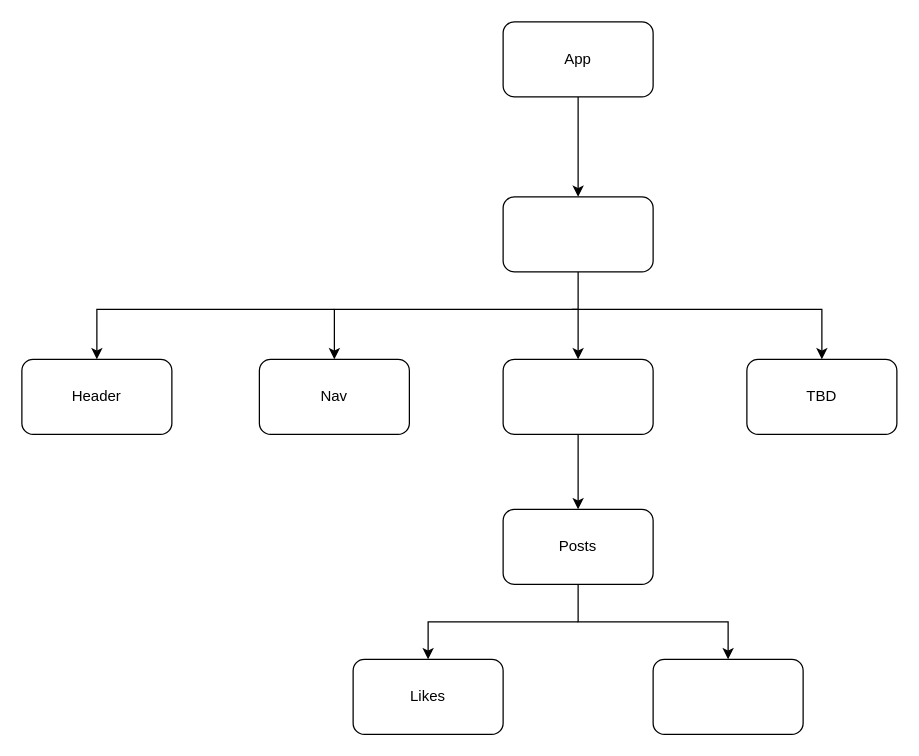
The diagram is 919 pixels wide and 756 high, and some of its shapes have lost their labels. Each missing label, with the box of its shape:
Comments: (652, 658, 803, 734)
Home: (502, 358, 653, 434)
Main: (502, 196, 653, 272)
